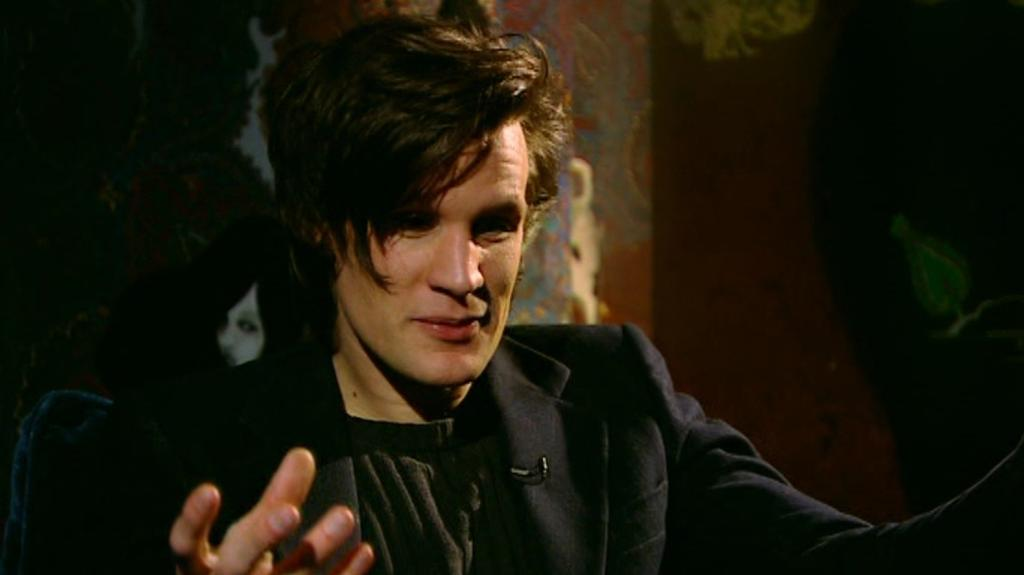face: (338, 86, 528, 376)
